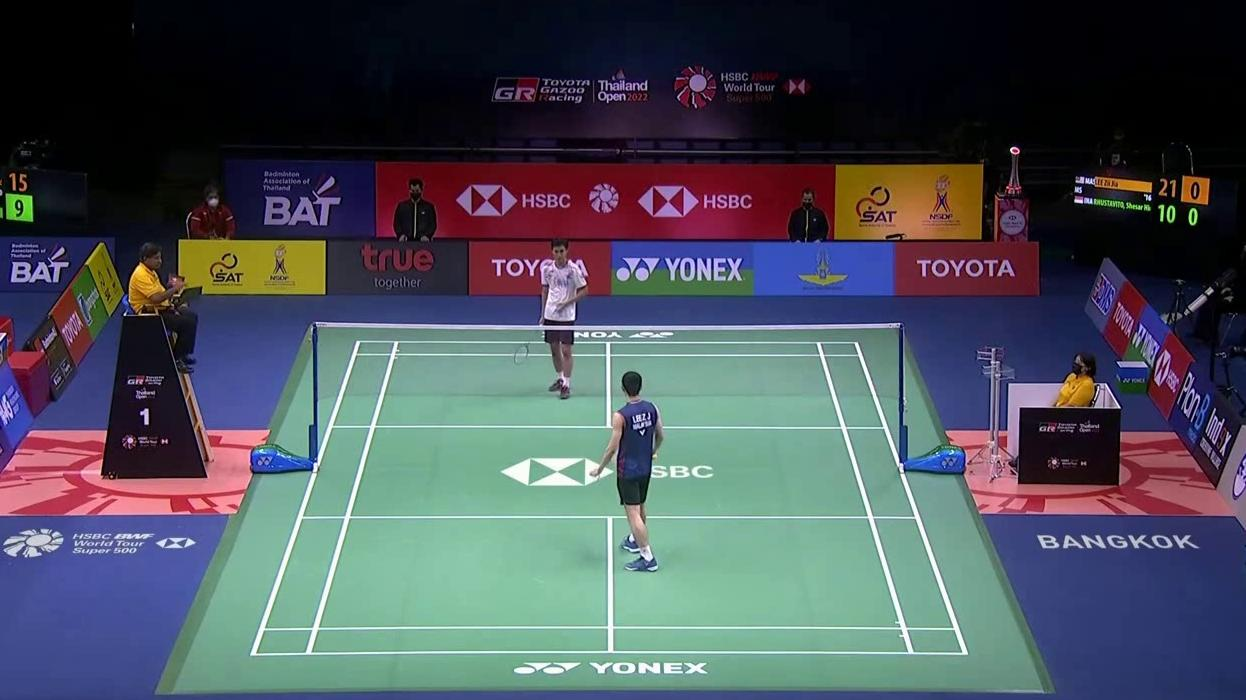racket: (514, 317, 545, 364), (610, 452, 657, 465)
shuttle: (589, 470, 601, 481)
